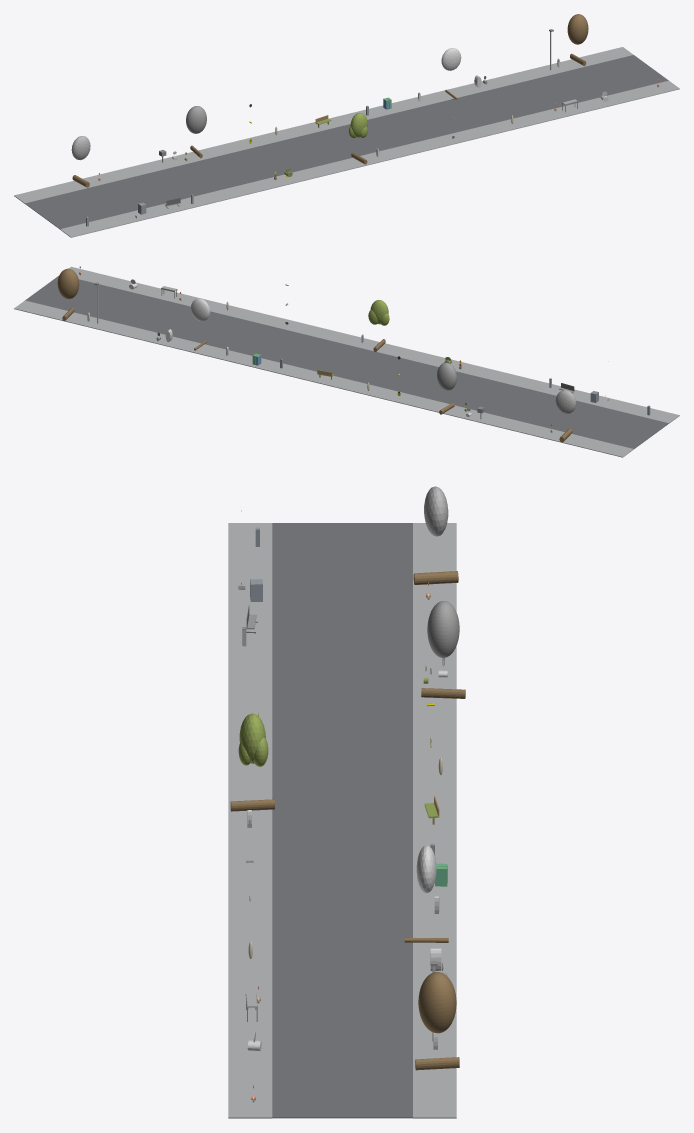
3 renders of one model, top to bottom at view 1: azimuth 30°, elevation 25°; view 2: azimuth 150°, elevation 25°; view 3: azimuth 270°, elevation 25°, orthographic. The views are drawn at different scales.
Visible parts, largest first — view 1: road_slab, sidewalk_left, sidewalk_right, inst_0016, inst_0013, inst_0014, inst_0012, inst_0015; view 2: road_slab, sidewalk_right, sidewalk_left, inst_0016, inst_0013, inst_0014, inst_0012, inst_0015; view 3: road_slab, sidewalk_left, sidewalk_right, inst_0016, inst_0013, inst_0014, inst_0012, inst_0015.
Boxes of the visible parts, x1,y1,x2,y2 form: road_slab: (25, 55, 668, 229); sidewalk_left: (60, 80, 679, 237); sidewalk_right: (14, 47, 633, 203); inst_0016: (567, 14, 588, 66); inst_0013: (186, 106, 206, 158); inst_0014: (348, 112, 367, 164); inst_0012: (71, 136, 90, 187); inst_0015: (441, 48, 461, 99); road_slab: (25, 275, 668, 448); sidewalk_right: (14, 300, 633, 457); sidewalk_left: (69, 266, 679, 423); inst_0016: (57, 268, 79, 321); inst_0013: (437, 362, 456, 414); inst_0014: (368, 300, 389, 351); inst_0012: (555, 390, 576, 442); inst_0015: (191, 298, 210, 350); road_slab: (272, 523, 412, 1118); sidewalk_left: (228, 523, 272, 1118); sidewalk_right: (413, 523, 456, 1118); inst_0016: (415, 972, 459, 1070); inst_0013: (421, 601, 465, 698); inst_0014: (230, 713, 274, 811); inst_0012: (413, 486, 458, 584); inst_0015: (404, 845, 448, 942).
Bounding box in the file's own units: 80 × 6.08 × 13.51.
